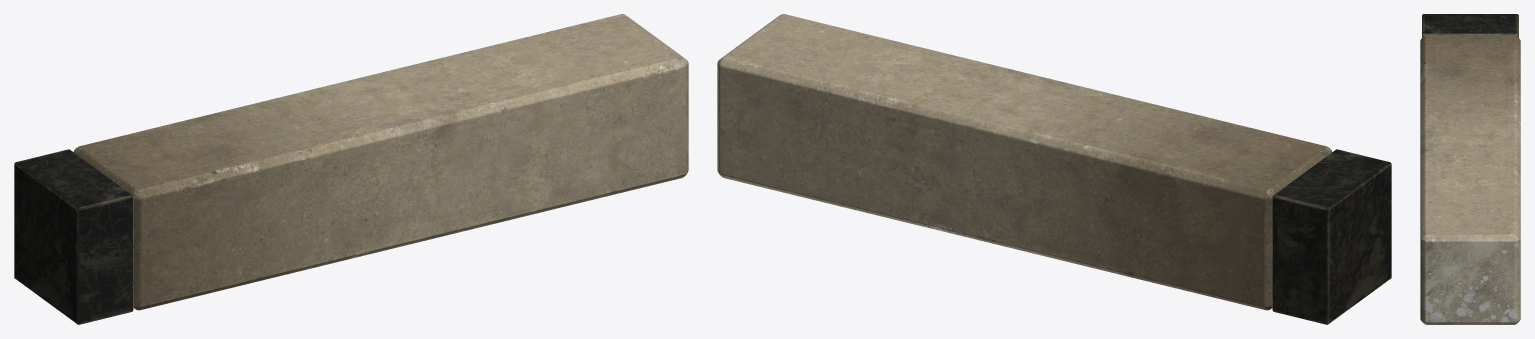
File: cP_CementPillar01_Large.dae
3 views of the same model, side by side, from view 1: azimuth 30°, elevation 25°; view 2: azimuth 150°, elevation 25°; view 3: azimuth 270°, elevation 25° (orthographic). The views are drawn at different scales.
Parts seen in each view (by area): view 1: cP_CementPillar01_Large.001; view 2: cP_CementPillar01_Large.001; view 3: cP_CementPillar01_Large.001.
Boxes of the visible parts, x1,y1,x2,y2 form: cP_CementPillar01_Large.001: (14,14,688,324); cP_CementPillar01_Large.001: (717,14,1391,324); cP_CementPillar01_Large.001: (1420,14,1520,324).
Bounding box in the file's own units: 2.07 × 0.3897 × 0.3897.
